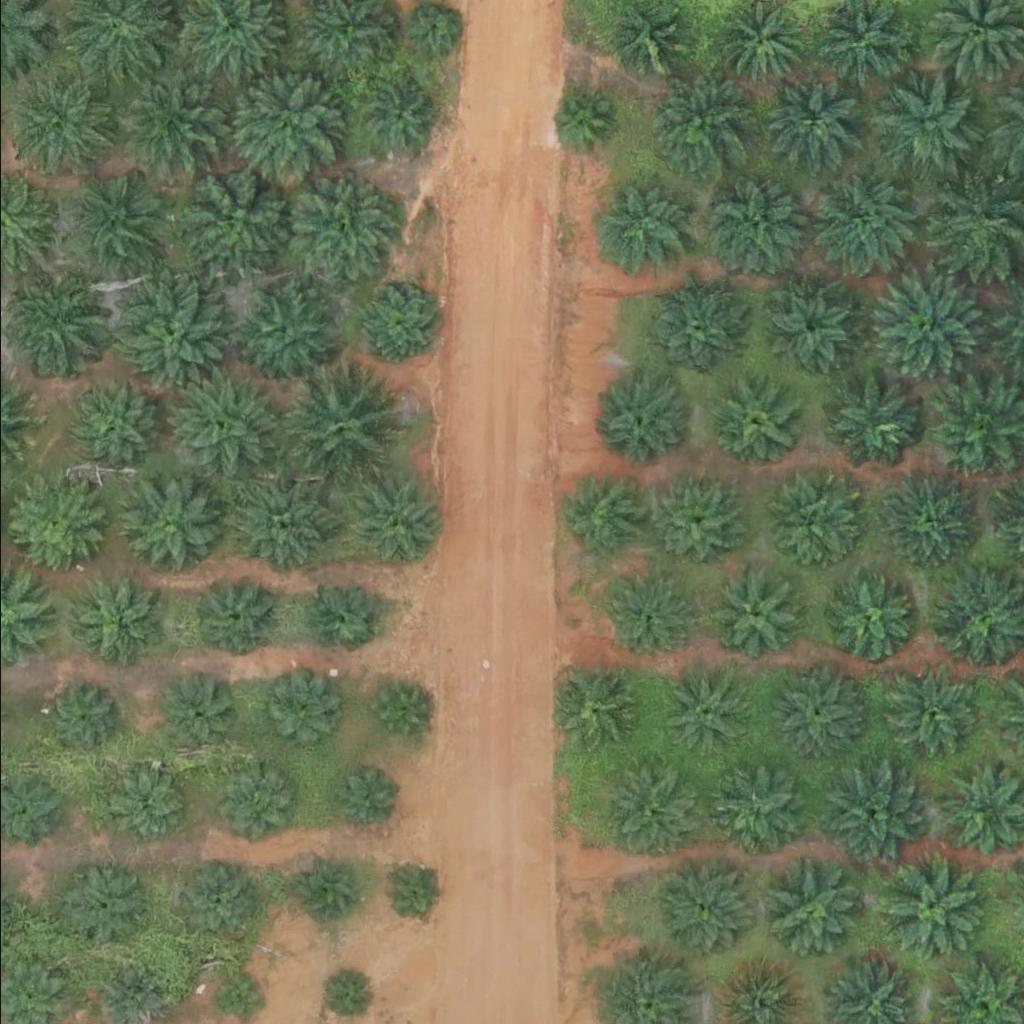Kelapa_Sawit: (280, 167, 406, 292), (169, 155, 295, 280), (105, 275, 231, 400), (279, 366, 405, 491), (156, 362, 282, 487), (860, 269, 974, 382), (225, 65, 338, 177), (113, 66, 226, 178), (878, 864, 979, 964), (818, 763, 919, 863), (879, 665, 980, 765), (763, 663, 864, 763), (879, 474, 980, 574), (874, 73, 975, 173), (646, 77, 747, 177), (701, 171, 802, 271), (591, 176, 692, 276), (605, 760, 706, 860), (757, 862, 858, 962), (653, 860, 754, 960), (58, 175, 159, 275), (2, 283, 103, 383), (824, 371, 924, 471), (810, 171, 910, 271), (643, 282, 743, 382), (592, 374, 692, 474), (646, 476, 746, 576), (234, 281, 334, 381), (342, 471, 442, 571), (226, 475, 326, 575), (119, 475, 219, 575), (2, 477, 102, 577), (60, 862, 148, 950), (821, 573, 909, 661), (763, 279, 851, 367), (708, 573, 796, 661), (602, 575, 690, 663), (662, 671, 750, 759), (552, 668, 640, 756), (15, 78, 103, 166), (68, 577, 156, 665), (189, 572, 277, 659), (762, 479, 850, 566), (761, 80, 849, 167), (712, 382, 800, 469), (555, 476, 643, 563), (715, 775, 803, 862), (64, 383, 152, 470), (110, 766, 186, 841), (162, 676, 238, 751), (43, 681, 119, 756), (361, 288, 437, 363), (301, 576, 377, 651), (260, 674, 335, 749), (218, 767, 293, 842), (174, 865, 249, 940), (608, 7, 683, 82), (359, 79, 434, 154), (547, 86, 610, 149), (382, 859, 445, 922), (293, 860, 356, 923), (366, 679, 429, 741), (333, 769, 396, 831), (213, 973, 264, 1023), (405, 4, 455, 54)
